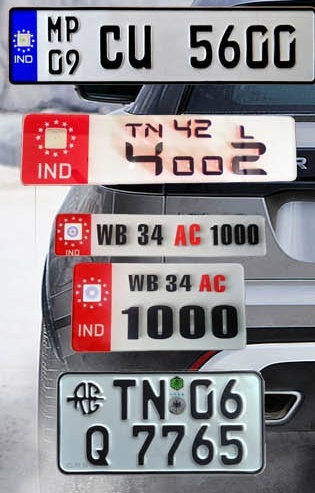character: (124, 140, 163, 175), (231, 141, 269, 176), (127, 23, 152, 71), (98, 25, 124, 69), (188, 23, 212, 69), (245, 24, 269, 69), (273, 24, 297, 69), (218, 23, 240, 69), (171, 155, 194, 176), (46, 15, 62, 44), (200, 155, 223, 175), (64, 14, 79, 42), (47, 48, 62, 76), (172, 118, 192, 139), (95, 222, 113, 245), (193, 117, 211, 139), (65, 49, 80, 75), (143, 122, 164, 138), (173, 224, 187, 247), (232, 223, 246, 246), (124, 122, 143, 138), (136, 223, 149, 246), (187, 223, 200, 246), (114, 223, 127, 245), (150, 223, 163, 245), (219, 223, 232, 245), (246, 223, 259, 245), (238, 124, 255, 140), (43, 162, 57, 181), (209, 224, 219, 246), (58, 162, 70, 179), (37, 160, 43, 180)
